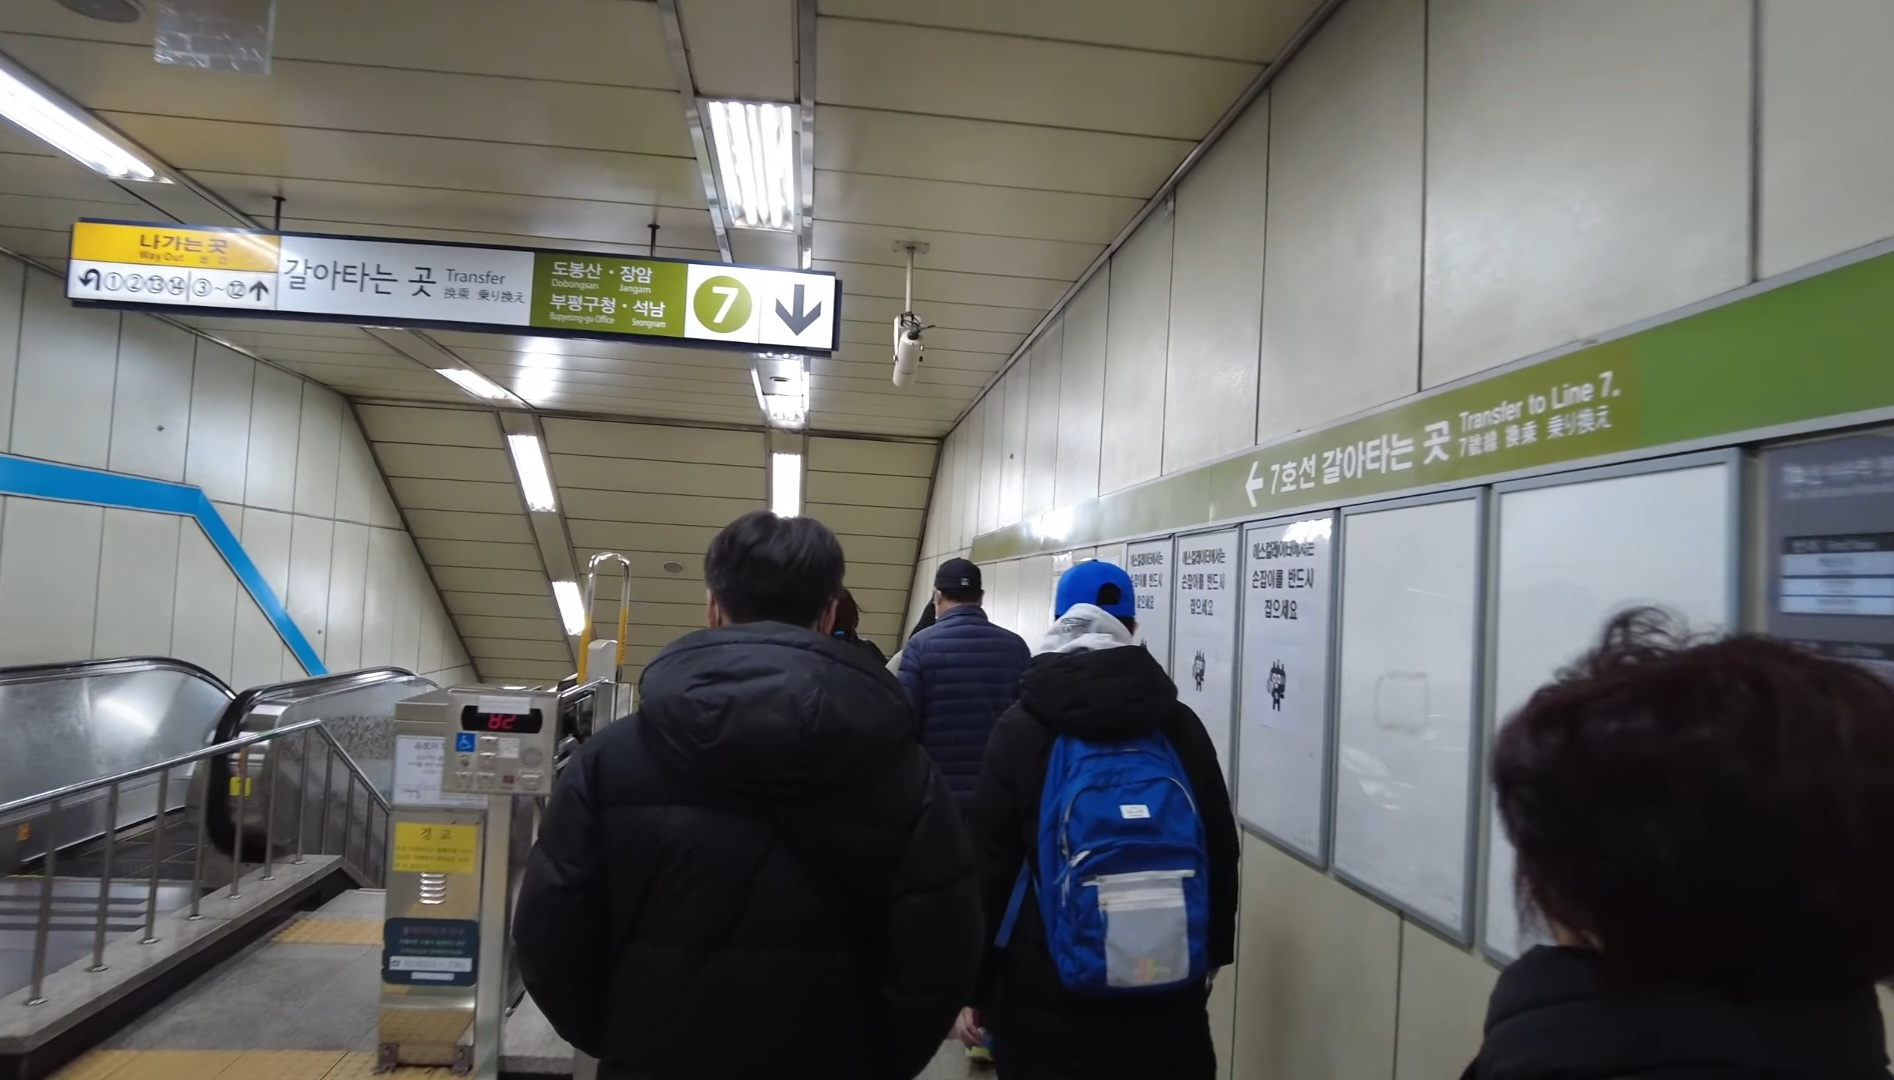signBoard: (61, 193, 846, 360)
